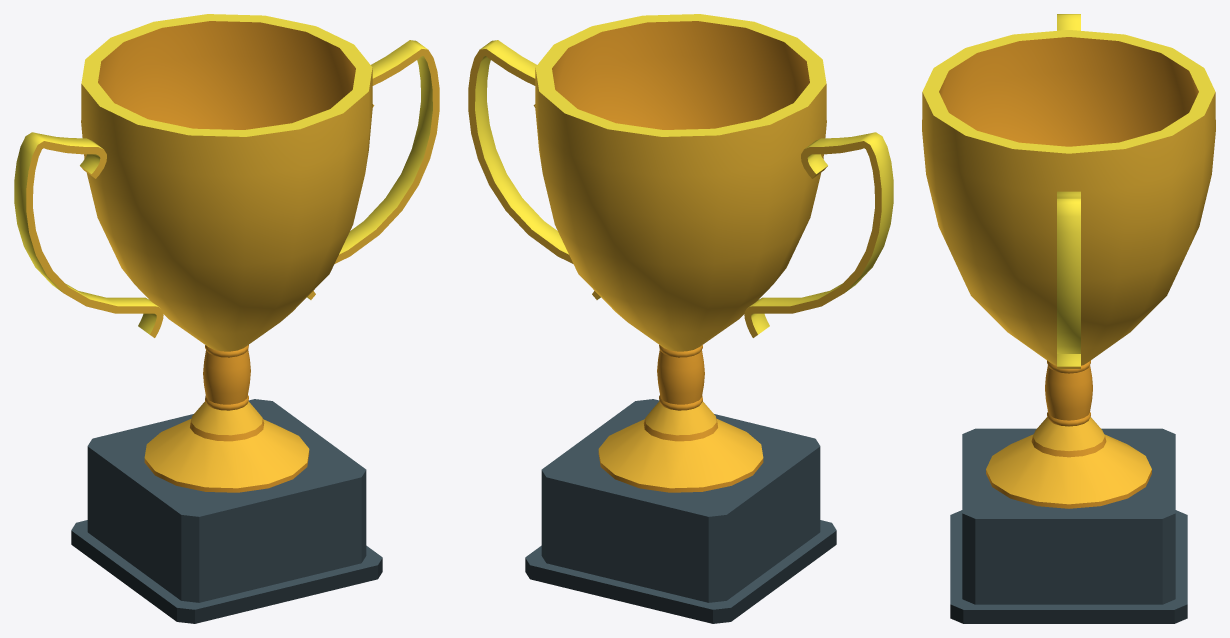
The model's file is trophy.fbx.
The picture shows the model from 3 angles, left to right: view 1: azimuth 30°, elevation 25°; view 2: azimuth 150°, elevation 25°; view 3: azimuth 270°, elevation 25°; orthographic projection.
Parts seen in each view (by area): view 1: polySurface16056; view 2: polySurface16056; view 3: polySurface16056.
Boxes of the visible parts, x1,y1,x2,y2 form: polySurface16056: (14, 14, 439, 623); polySurface16056: (468, 14, 893, 623); polySurface16056: (922, 14, 1215, 623).
Size of the model in its own units: 123 by 137 by 75.6.
Materials: 1 (1 with a texture image).
